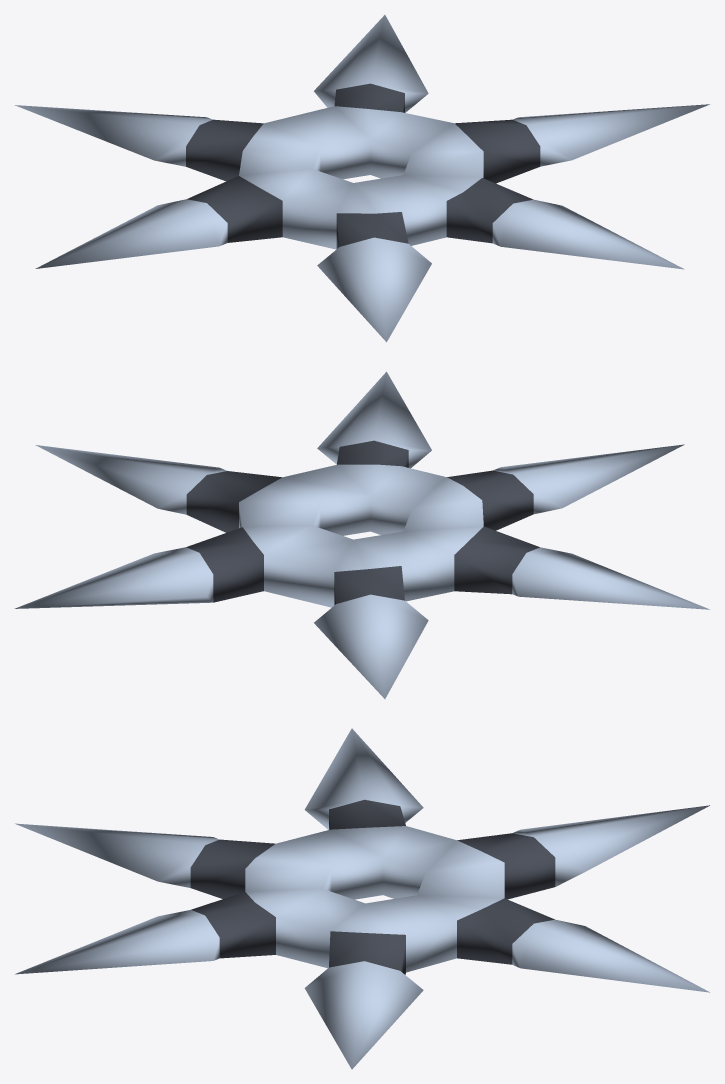
Rendered from Shuriken.fbx.
3 renders of one model, top to bottom at view 1: azimuth 30°, elevation 25°; view 2: azimuth 150°, elevation 25°; view 3: azimuth 270°, elevation 25°, orthographic. The views are drawn at different scales.
Parts seen in each view (by area): view 1: Shuriken; view 2: Shuriken; view 3: Shuriken.
Boxes of the visible parts, x1,y1,x2,y2 form: Shuriken: (14,15,709,342); Shuriken: (14,371,709,698); Shuriken: (15,728,709,1069).
Bounding box in the file's own units: 0.202 × 0.0104 × 0.1741.
